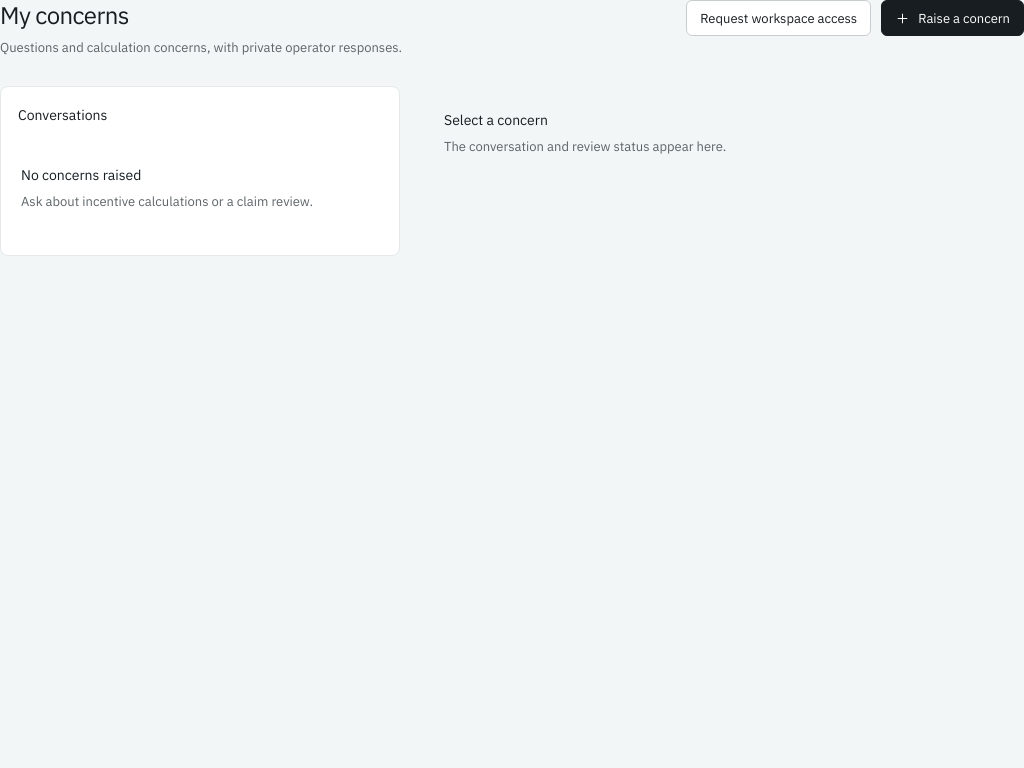
Test case: public provider and operator workflow › provider can request workspace access without workspace creation controls
Click the button "Request workspace access" at (779, 18), box [686,0,871,36]
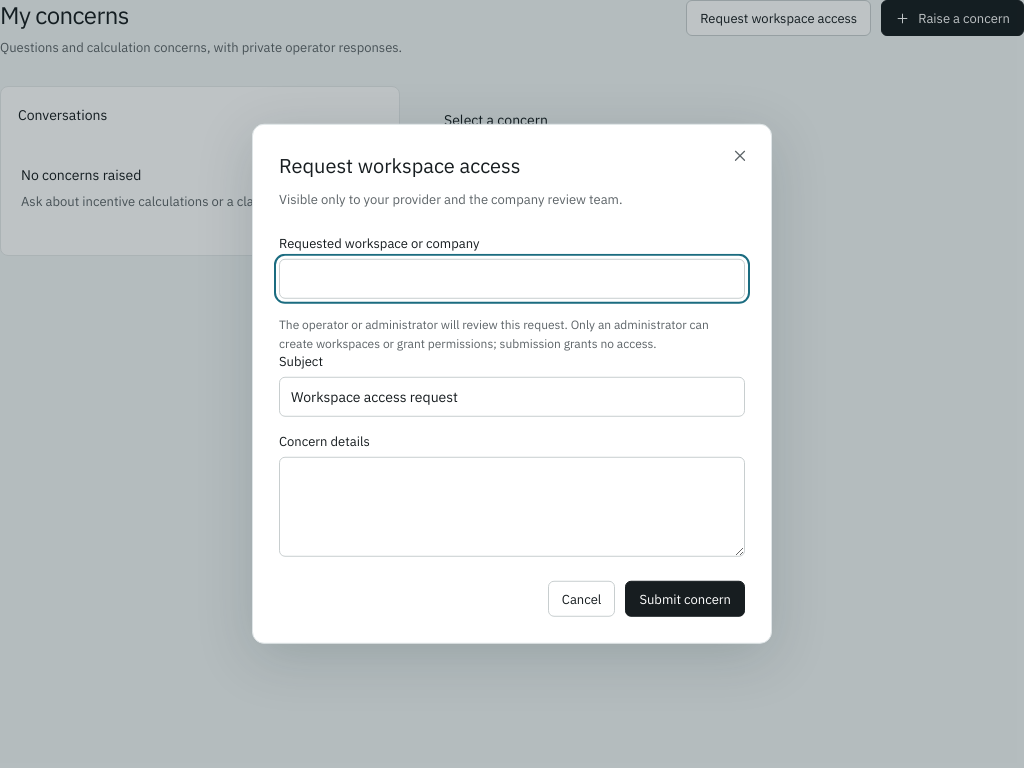
expect the dialog "Request workspace access" is shown: met, box [252,124,772,644]
expect the text "submission grants no access" is shown: met, box [279,317,709,351]
